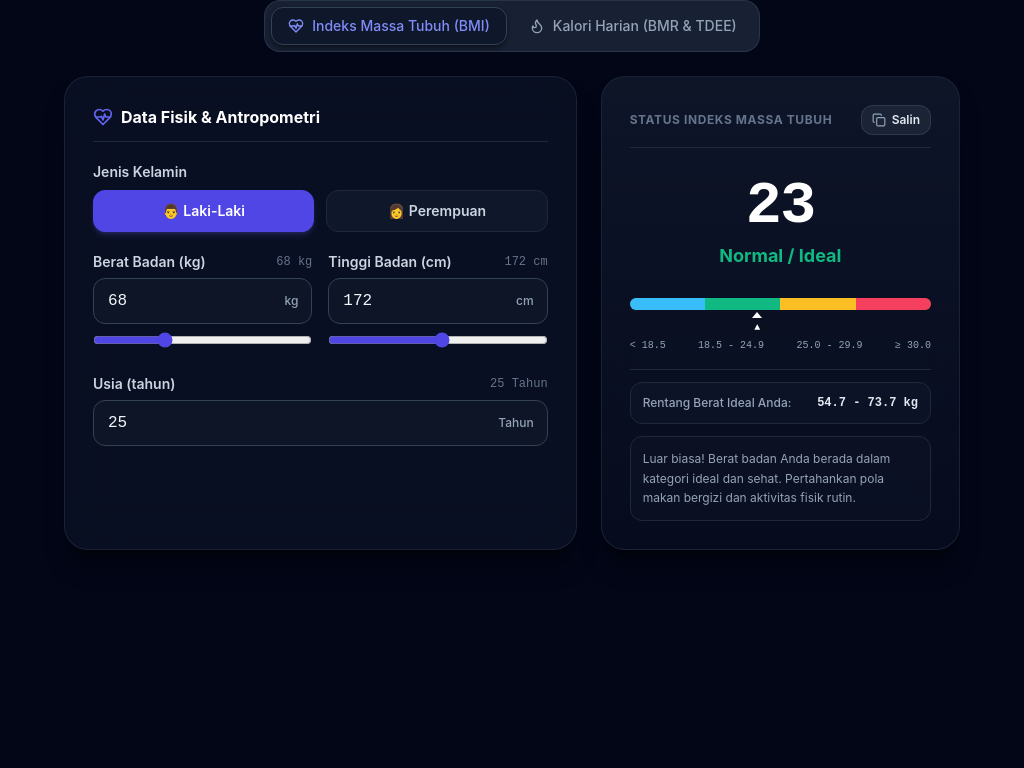
it: HealthCalculator Suite › switches between BMI and Calorie tabs
Expected: the text "Indeks Massa Tubuh (BMI)" is shown, [312, 16, 490, 36]
Click the tab "Kalori Harian (BMR & TDEE)".
click(633, 26)  # box [513, 8, 753, 44]
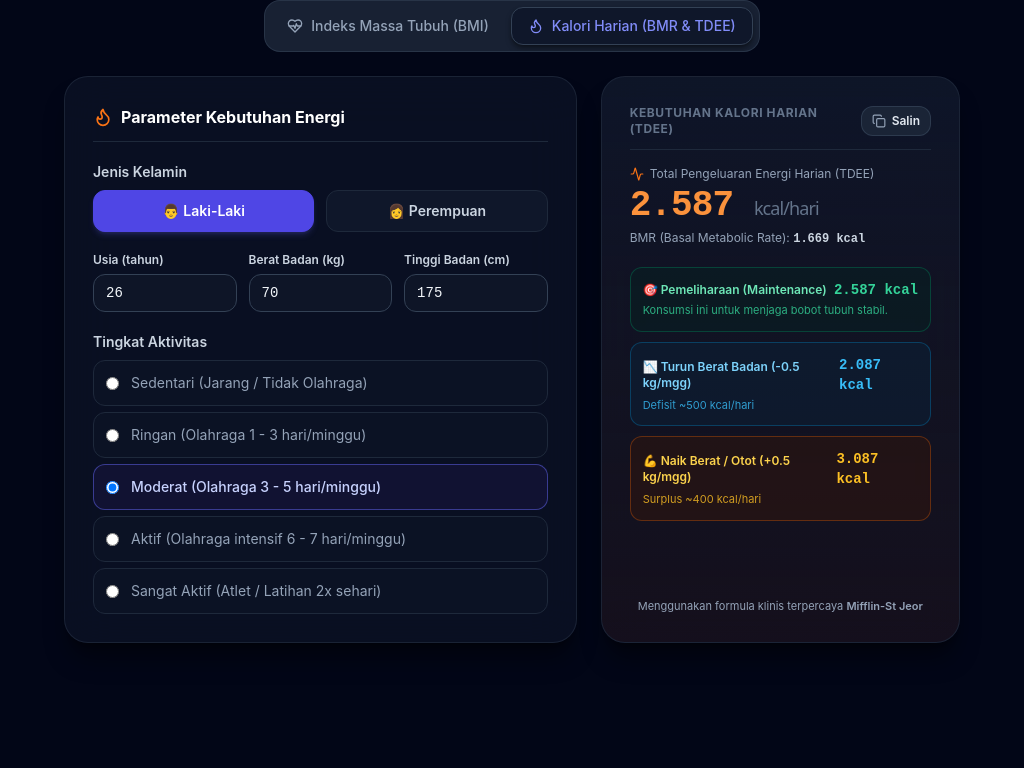
Result: the text "Kebutuhan Kalori Harian (TDEE)" is shown at [630, 105, 818, 136]
